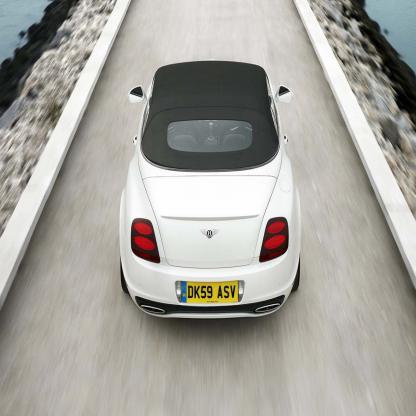Vehicle: (118, 58, 304, 322)
